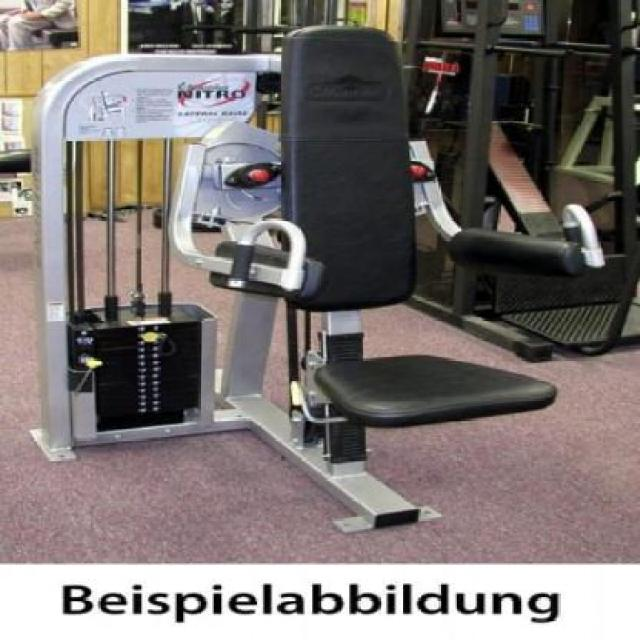lateral raises machine: (41, 23, 604, 532)
